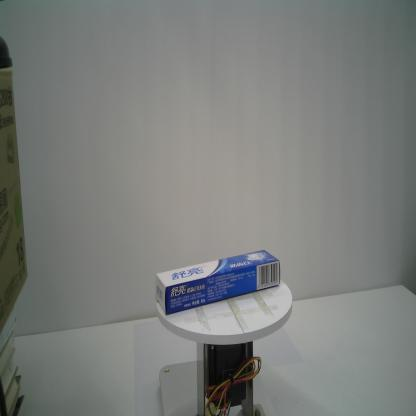Personal Hygiene: (155, 248, 280, 315)
